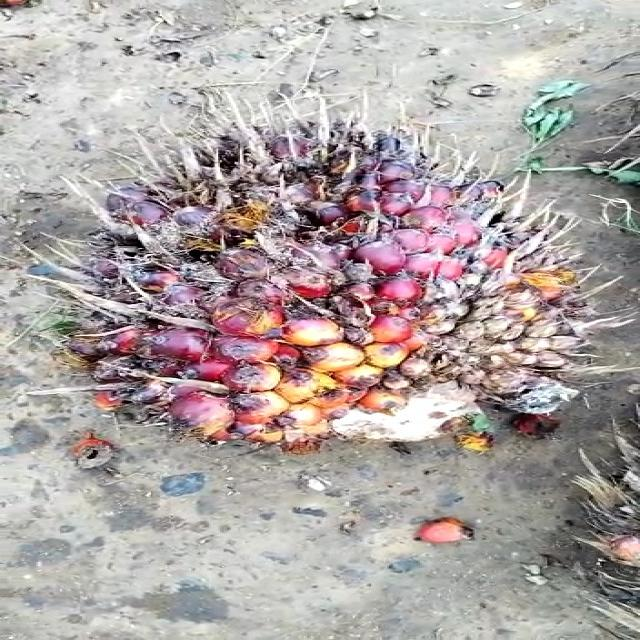palm oil: (63, 112, 563, 486)
